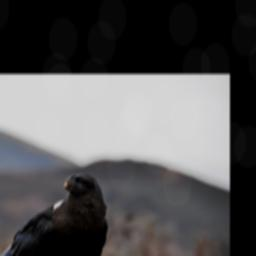Crow: (0, 171, 110, 256)
